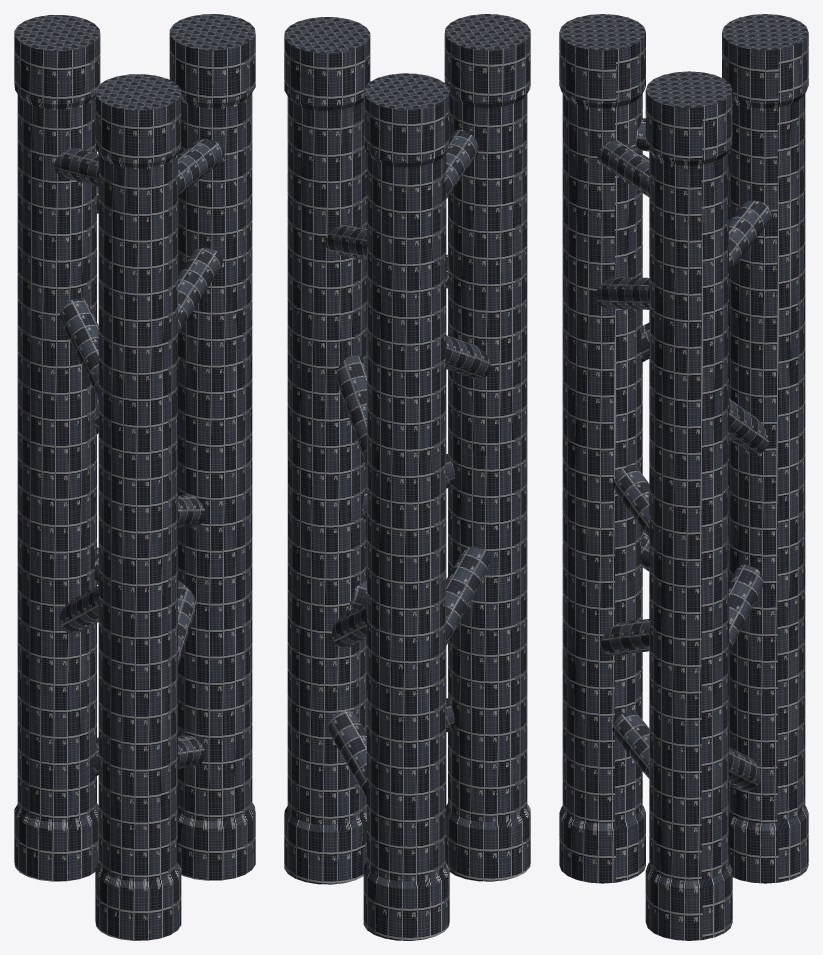
Rendered from Polls.fbx.
3 views of the same model, side by side, from view 1: azimuth 30°, elevation 25°; view 2: azimuth 150°, elevation 25°; view 3: azimuth 270°, elevation 25° (orthographic).
Visible parts, largest first — view 1: pCylinder16, pCylinder15, pCylinder17, pCylinder22, pCylinder21, pCylinder20, pCylinder19, pCylinder27, pCylinder25, pCylinder24, pCylinder26; view 2: pCylinder15, pCylinder16, pCylinder17, pCylinder27, pCylinder23, pCylinder29, pCylinder22, pCylinder19, pCylinder18, pCylinder28; view 3: pCylinder17, pCylinder16, pCylinder15, pCylinder20, pCylinder28, pCylinder18, pCylinder21, pCylinder24, pCylinder26, pCylinder25, pCylinder23, pCylinder29.
Part boxes in pixels (bbox=[...]): pCylinder16: bbox=[95, 74, 181, 940]; pCylinder15: bbox=[14, 15, 100, 881]; pCylinder17: bbox=[169, 14, 255, 880]; pCylinder22: bbox=[60, 298, 98, 397]; pCylinder21: bbox=[178, 248, 222, 333]; pCylinder20: bbox=[178, 139, 224, 195]; pCylinder19: bbox=[54, 148, 98, 186]; pCylinder27: bbox=[59, 586, 98, 633]; pCylinder25: bbox=[178, 580, 196, 667]; pCylinder24: bbox=[178, 495, 205, 527]; pCylinder26: bbox=[178, 735, 204, 768]; pCylinder15: bbox=[363, 73, 449, 940]; pCylinder16: bbox=[444, 14, 530, 881]; pCylinder17: bbox=[284, 17, 370, 884]; pCylinder27: bbox=[446, 546, 490, 645]; pCylinder23: bbox=[336, 355, 366, 468]; pCylinder29: bbox=[328, 711, 366, 798]; pCylinder22: bbox=[446, 335, 490, 379]; pCylinder19: bbox=[446, 129, 478, 198]; pCylinder18: bbox=[325, 224, 366, 260]; pCylinder28: bbox=[332, 603, 366, 648]; pCylinder17: bbox=[645, 71, 732, 940]; pCylinder16: bbox=[559, 14, 645, 883]; pCylinder15: bbox=[722, 14, 808, 883]; pCylinder20: bbox=[597, 140, 649, 196]; pCylinder28: bbox=[729, 564, 763, 652]; pCylinder18: bbox=[729, 200, 771, 271]; pCylinder21: bbox=[595, 277, 649, 309]; pCylinder24: bbox=[613, 465, 649, 537]; pCylinder26: bbox=[612, 710, 649, 778]; pCylinder25: bbox=[600, 619, 649, 655]; pCylinder23: bbox=[729, 398, 768, 453]; pCylinder29: bbox=[729, 747, 760, 790].
Bounding box in the file's own units: 0.7994 × 3.3 × 0.8953.
